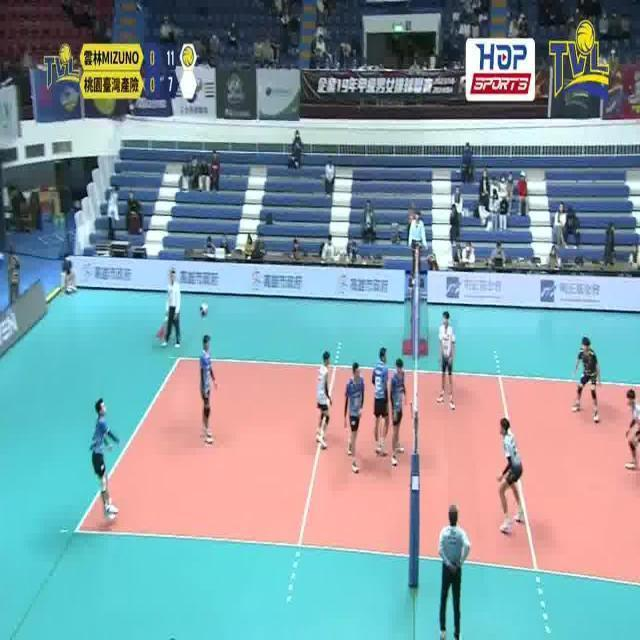volleyball: (199, 302, 209, 318)
